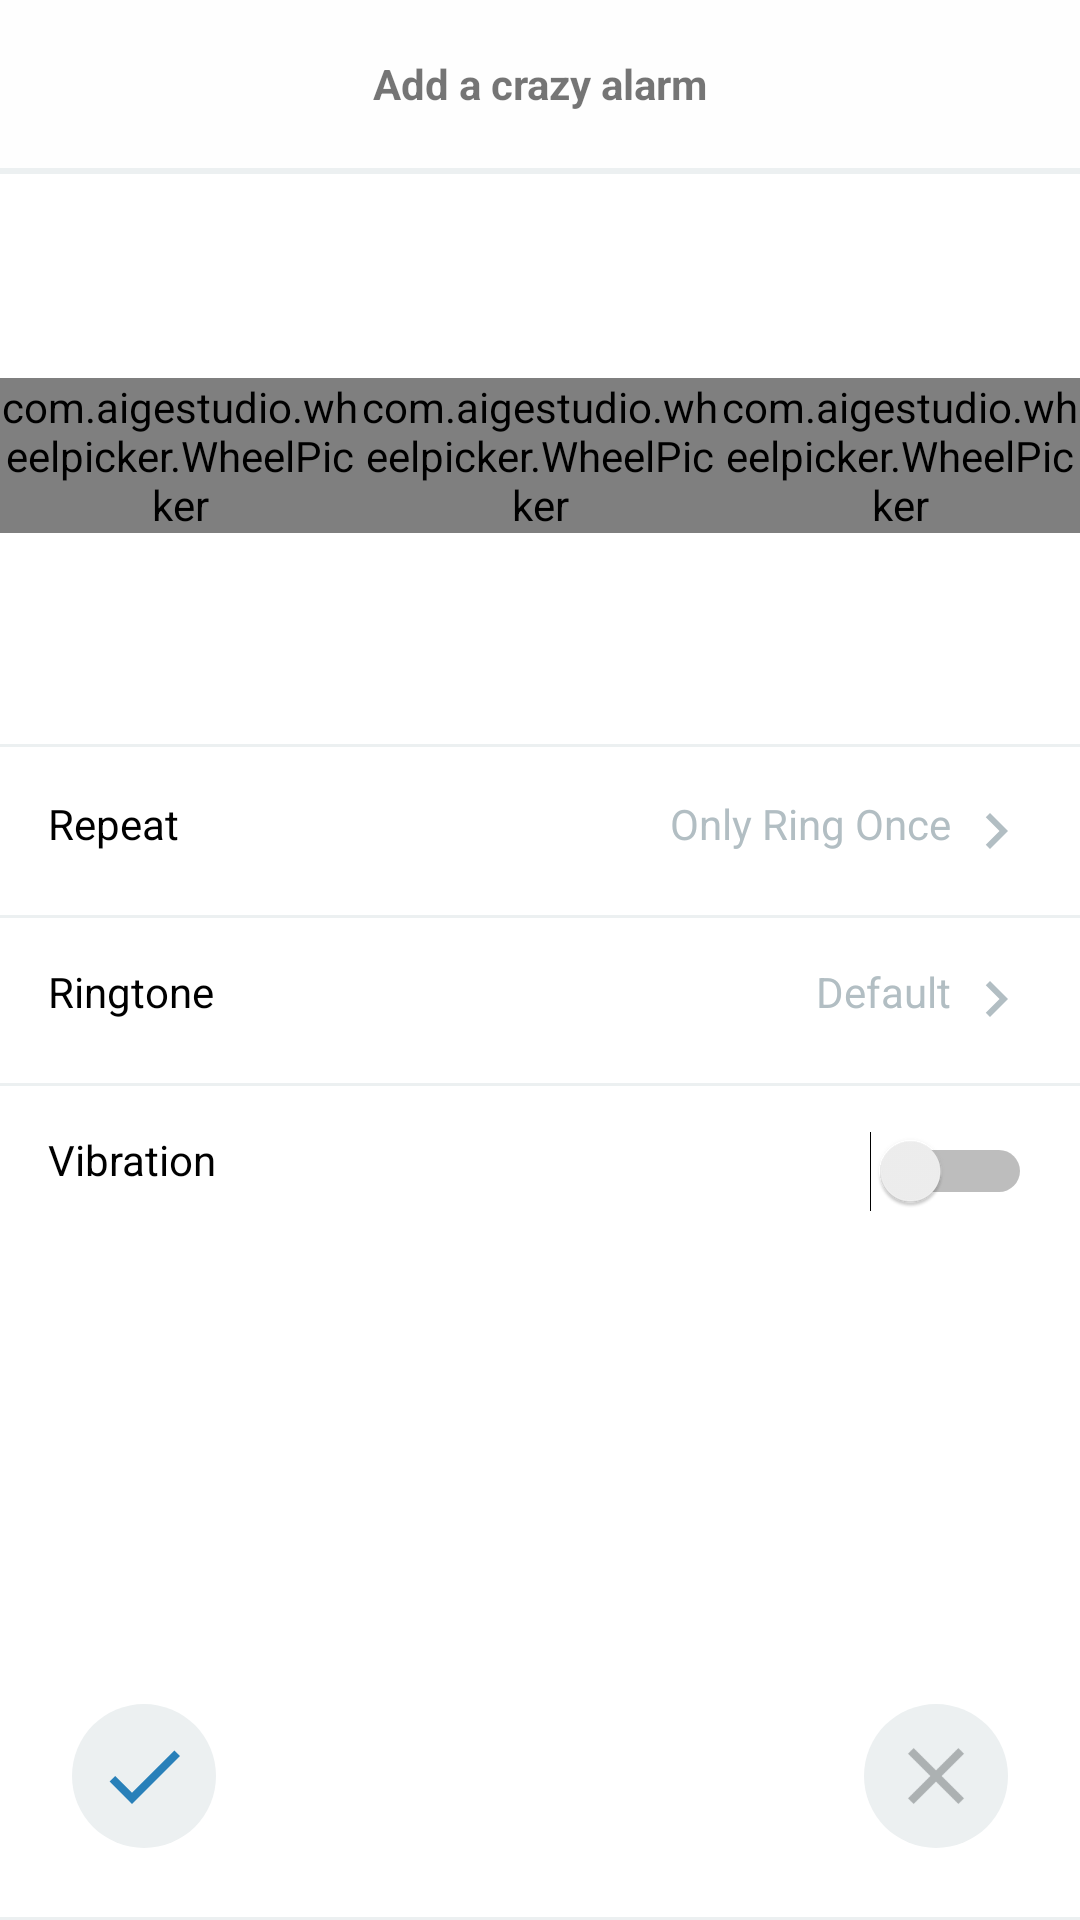

Icon bounding boxes for this 1080*1920 phone screenshot, format (x1, y1, x2, y2):
close: (864, 1704, 1008, 1848)
done: (72, 1704, 216, 1848)
